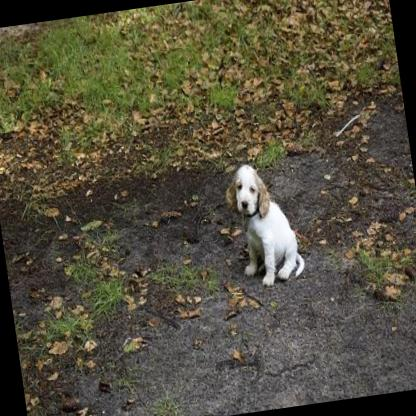cocker_spaniel: (220, 154, 306, 288)
